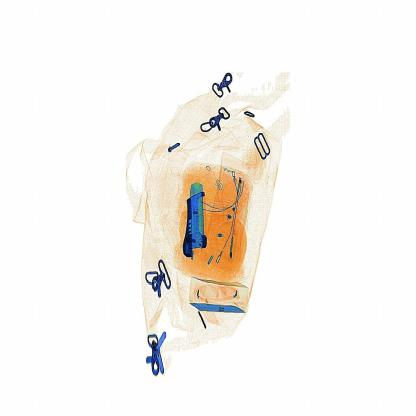pliers: (180, 179, 213, 263)
